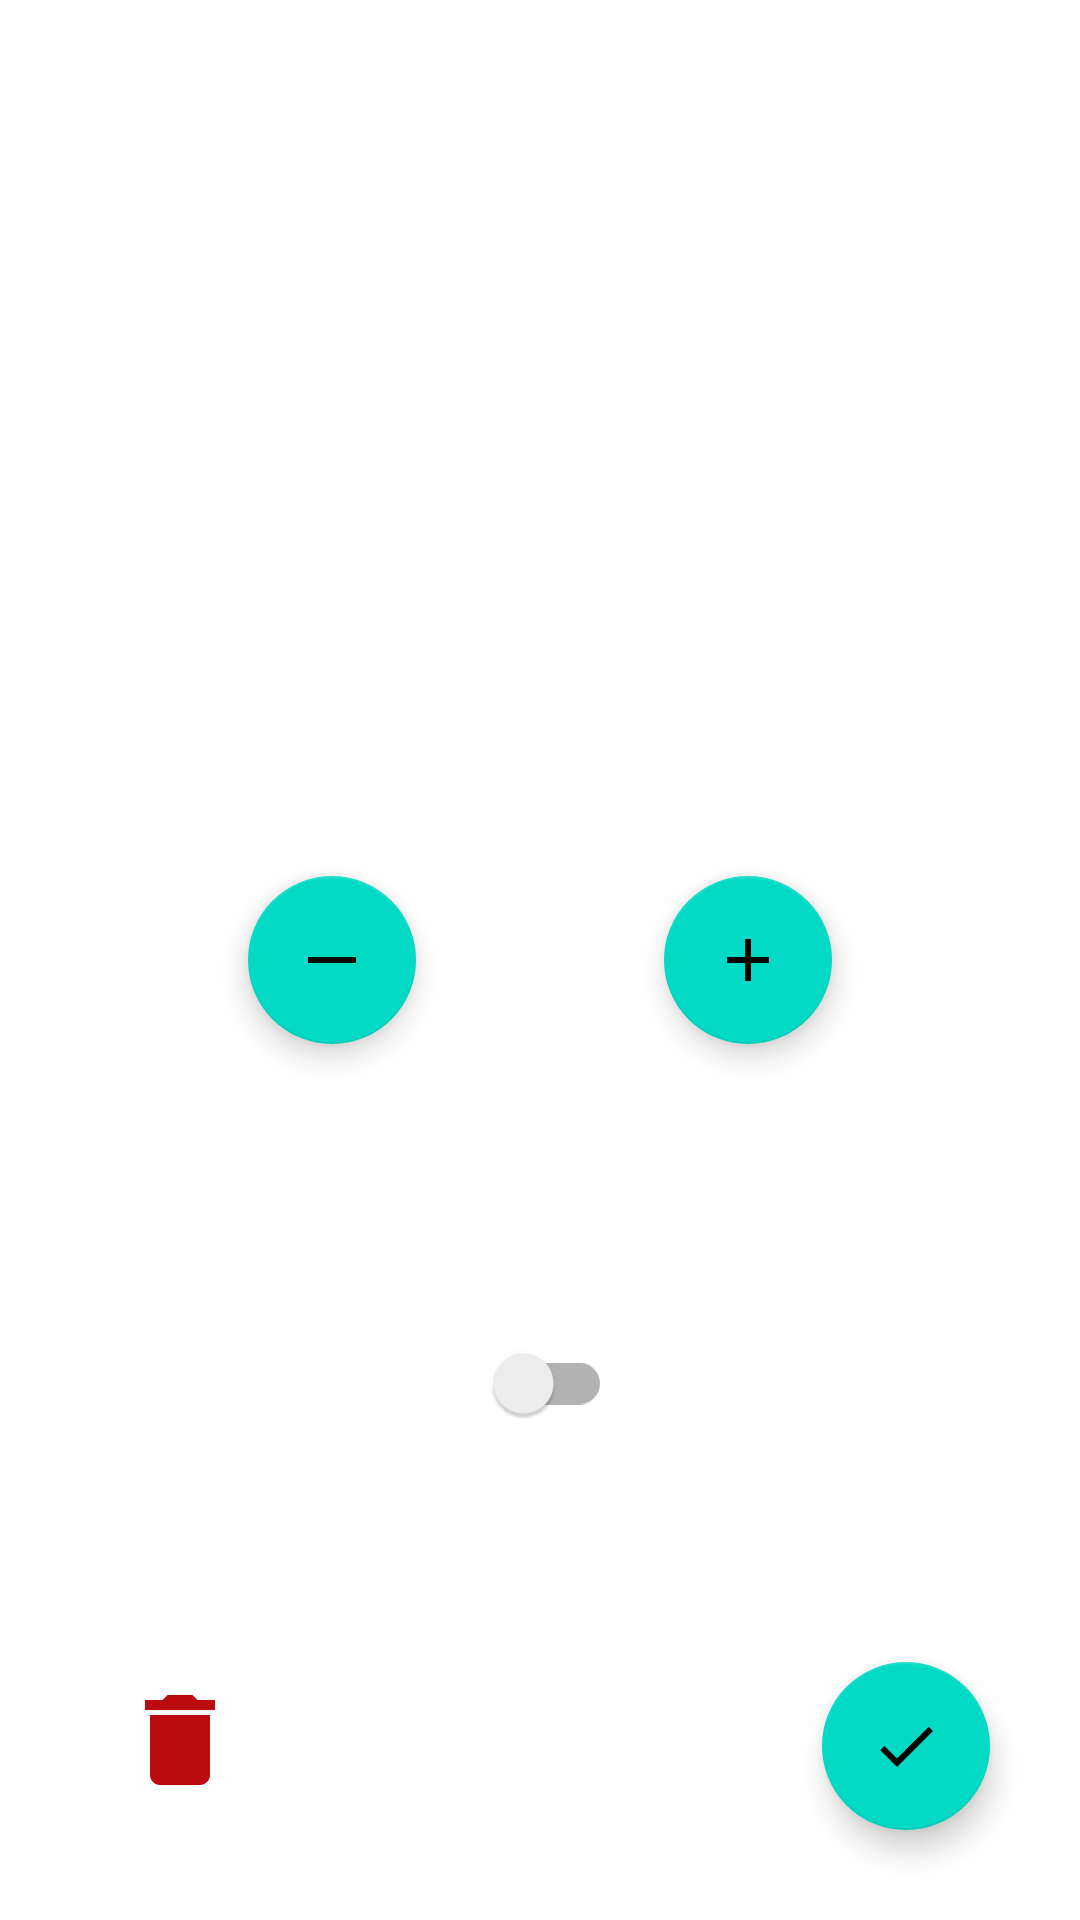

Icon bounding boxes for this 1080x1920 phone screenshot, format Rect(x1, y1, x2, y2):
add: Rect(664, 876, 832, 1044)
check: Rect(822, 1662, 990, 1830)
delete: Rect(145, 1695, 215, 1785)
horizontal rule: Rect(248, 876, 416, 1044)
